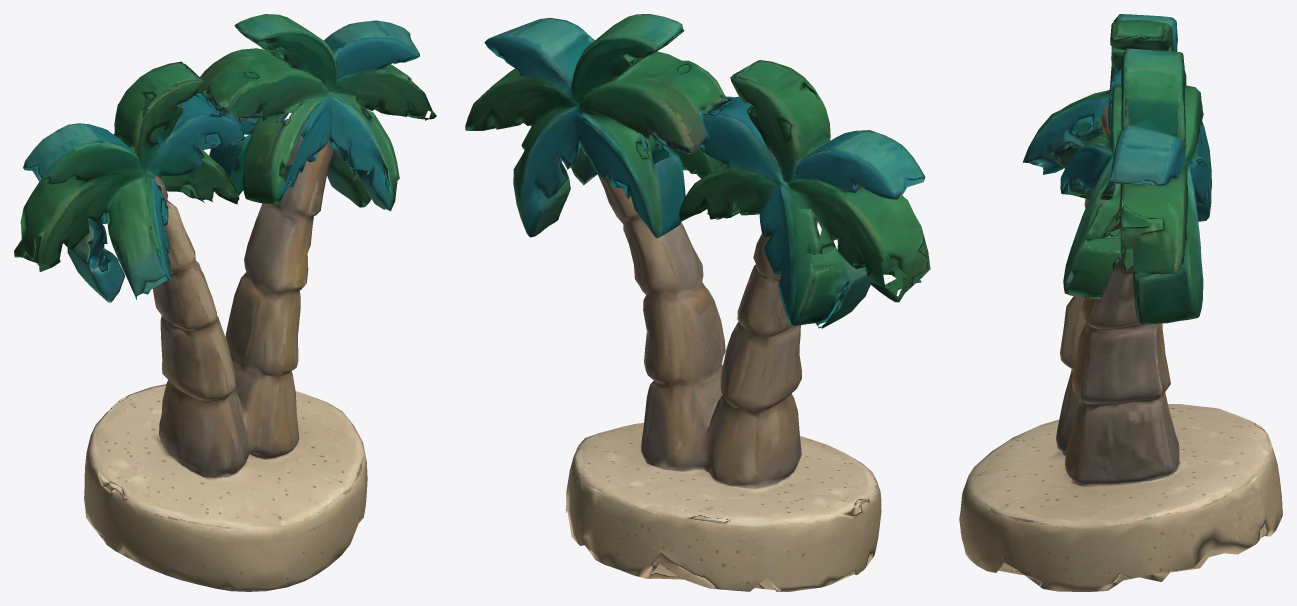
Rendered from sw-palm-c.glb.
3 renders of one model, left to right at view 1: azimuth 30°, elevation 25°; view 2: azimuth 150°, elevation 25°; view 3: azimuth 270°, elevation 25°, orthographic. The views are drawn at different scales.
Parts seen in each view (by area): view 1: geometry_0; view 2: geometry_0; view 3: geometry_0.
Boxes of the visible parts, bbox=[...] form: geometry_0: bbox=[14, 14, 436, 591]; geometry_0: bbox=[465, 14, 930, 591]; geometry_0: bbox=[959, 14, 1282, 591].
Bounding box in the file's own units: 0.807 × 0.9301 × 0.5168.
Materials: 1 (1 with a texture image).
